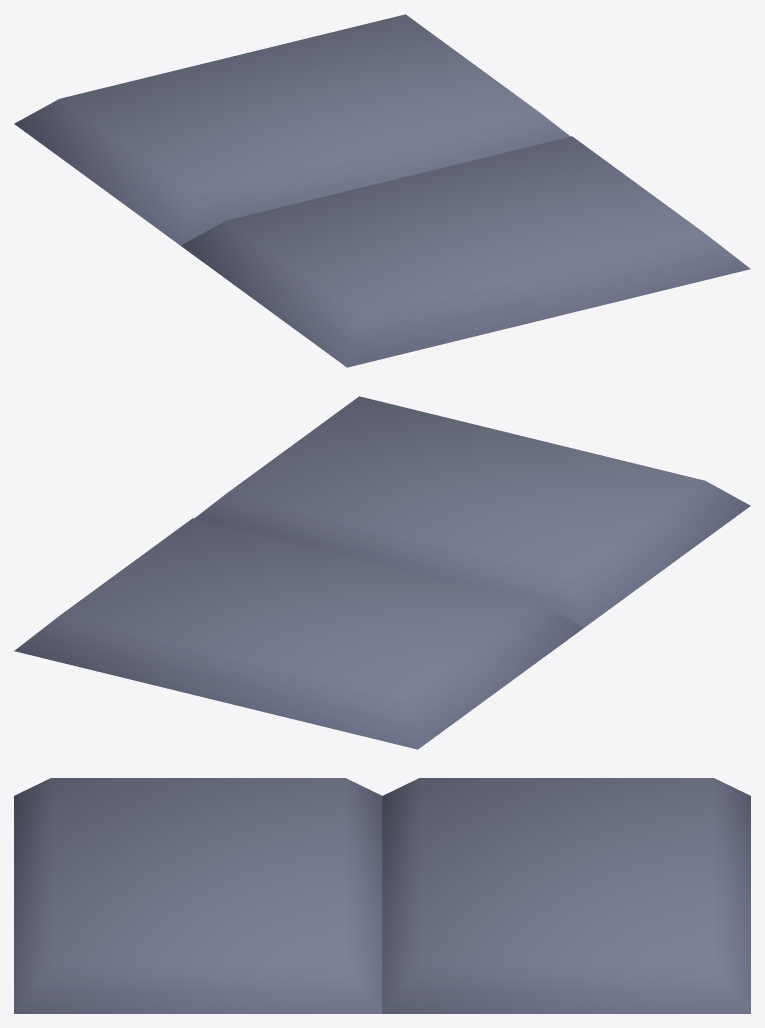
File: kenney-city-suburban-path-stones-short.glb
3 views of the same model, one above another, from view 1: azimuth 30°, elevation 25°; view 2: azimuth 150°, elevation 25°; view 3: azimuth 270°, elevation 25° (orthographic). The views are drawn at different scales.
Visible parts, largest first — view 1: path-stones-short; view 2: path-stones-short; view 3: path-stones-short.
Boxes of the visible parts, x1,y1,x2,y2 form: path-stones-short: (14,14,750,367); path-stones-short: (14,396,750,749); path-stones-short: (14,778,750,1013).
Size of the model in its own units: 0.14 by 0.01 by 0.2.
Materials: 1 (1 with a texture image).
